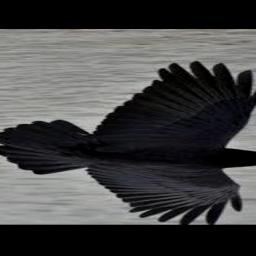Crow: (0, 62, 256, 225)
